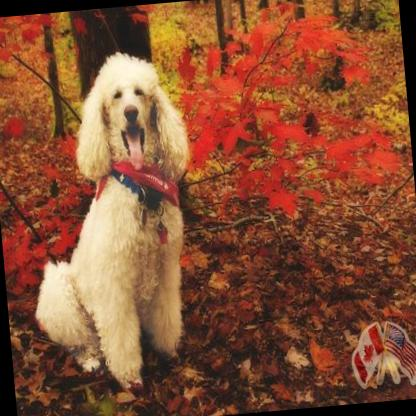standard_poodle: (12, 46, 208, 396)
